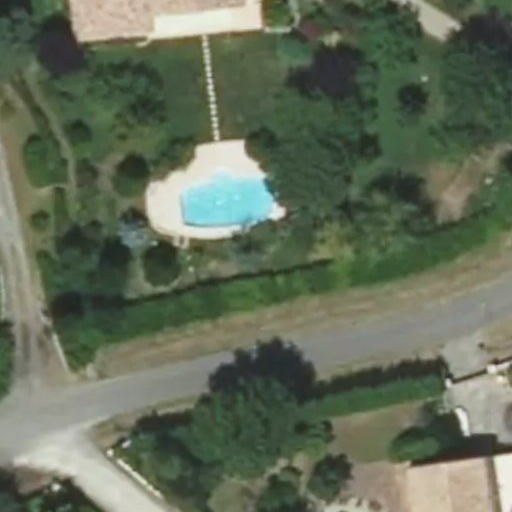pool: (176, 166, 276, 229)
